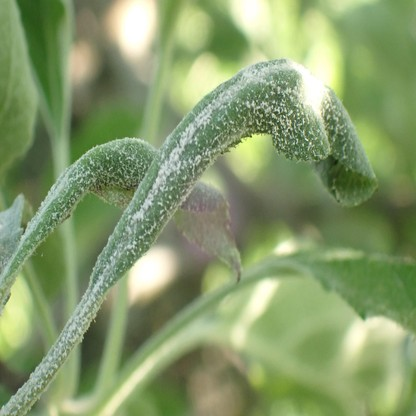powder: (92, 59, 378, 291), (31, 136, 160, 239), (175, 181, 242, 283), (0, 192, 26, 268)
